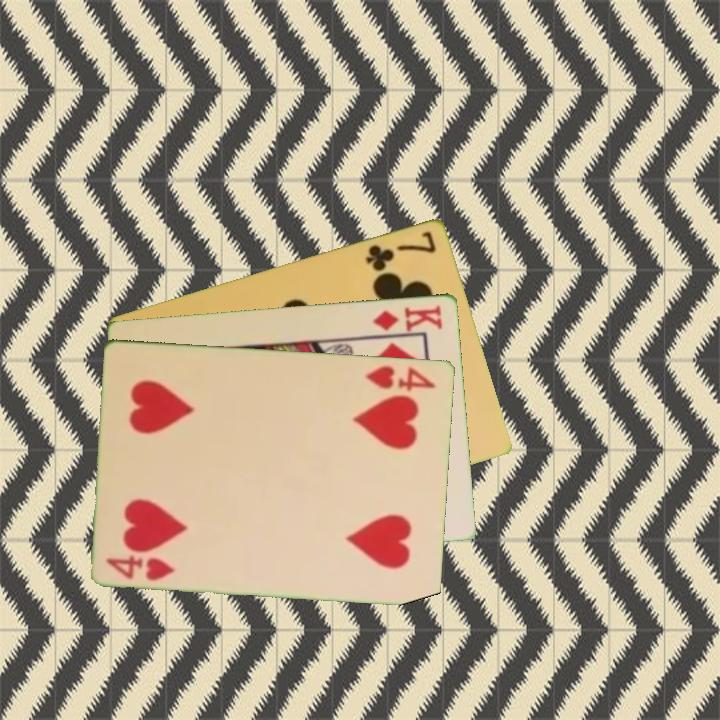4h: (363, 362, 440, 394), (103, 551, 177, 583)
7c: (362, 227, 440, 274)
Kd: (370, 300, 446, 334)
